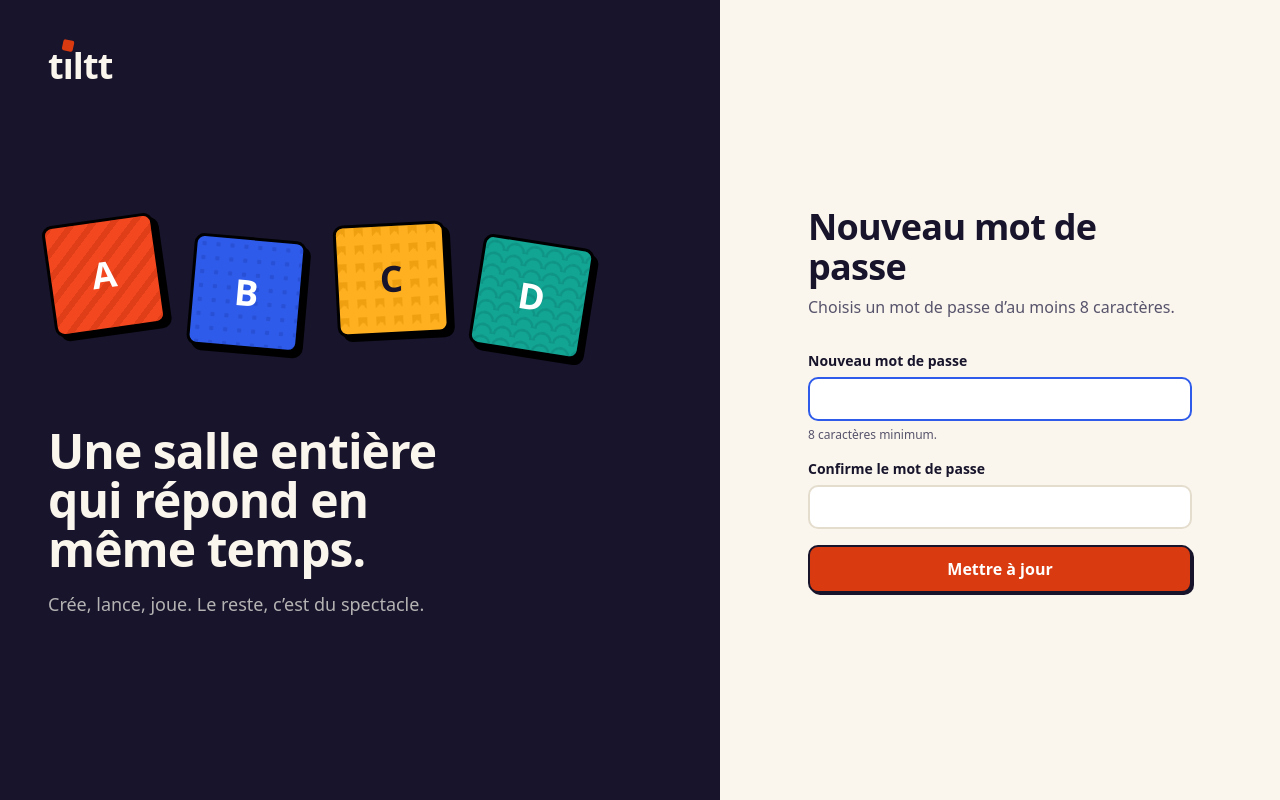
Test case: /auth/reset › keeps the form and explains a rate limit
Type "nouveau-mdp-1" into the password field labelled "Nouveau mot de passe" at point(1000, 399), box [808, 377, 1192, 421]
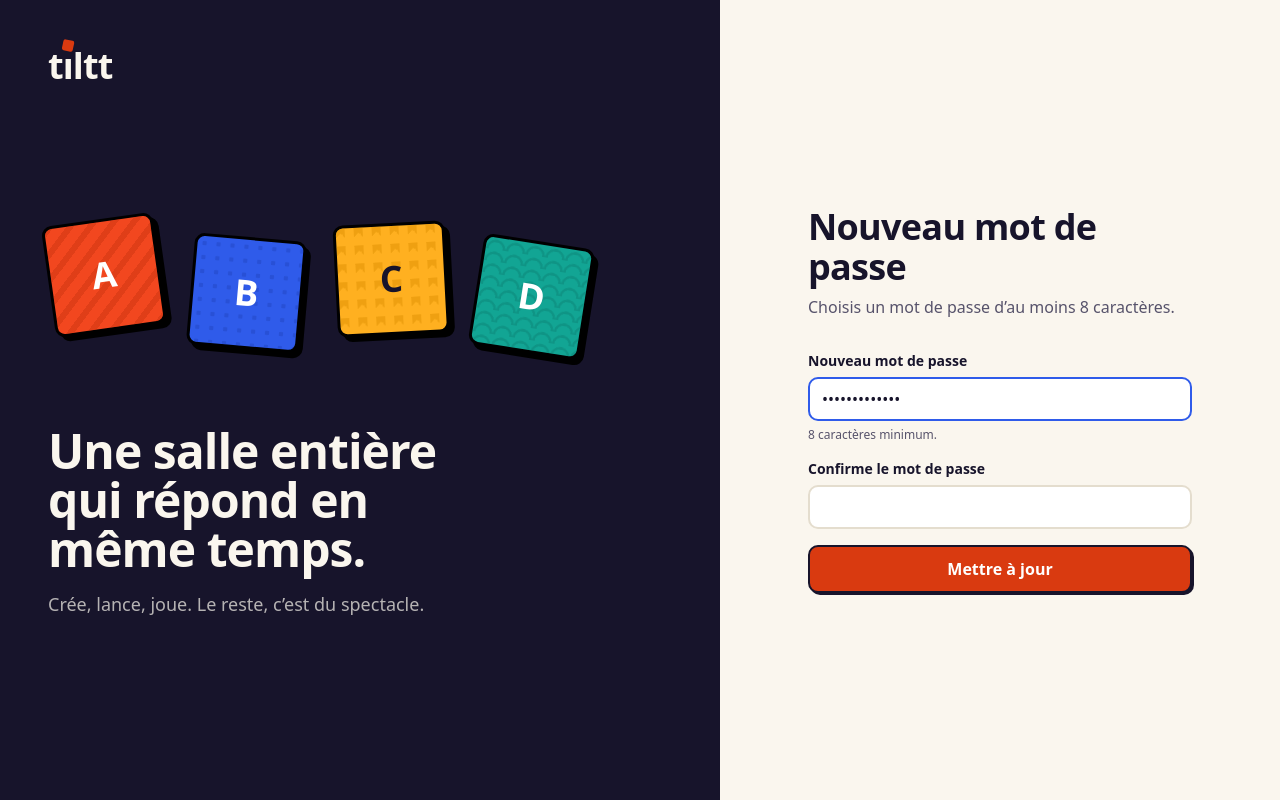
Type "nouveau-mdp-1" into the password field labelled "Confirme le mot de passe" at point(1000, 507), box [808, 485, 1192, 529]
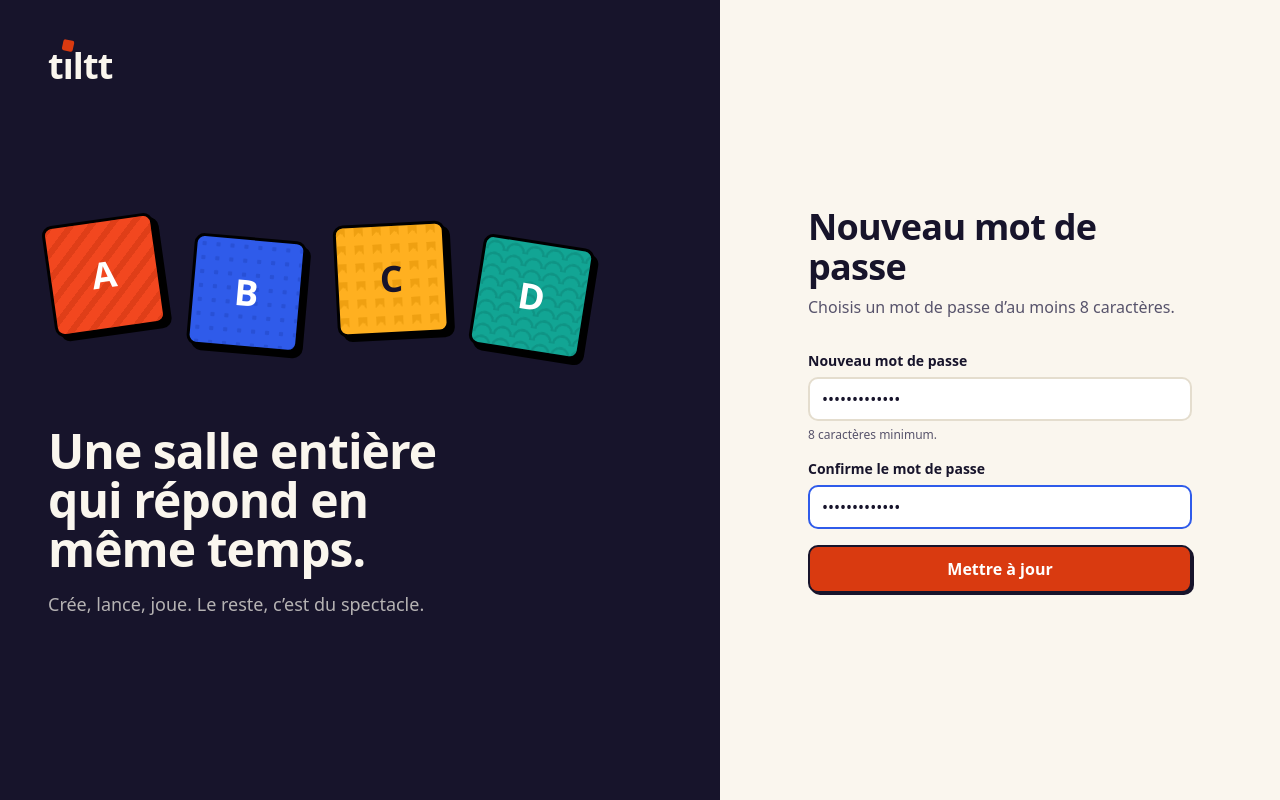
Click the button "Mettre à jour" at point(1000, 569), box [808, 545, 1192, 593]
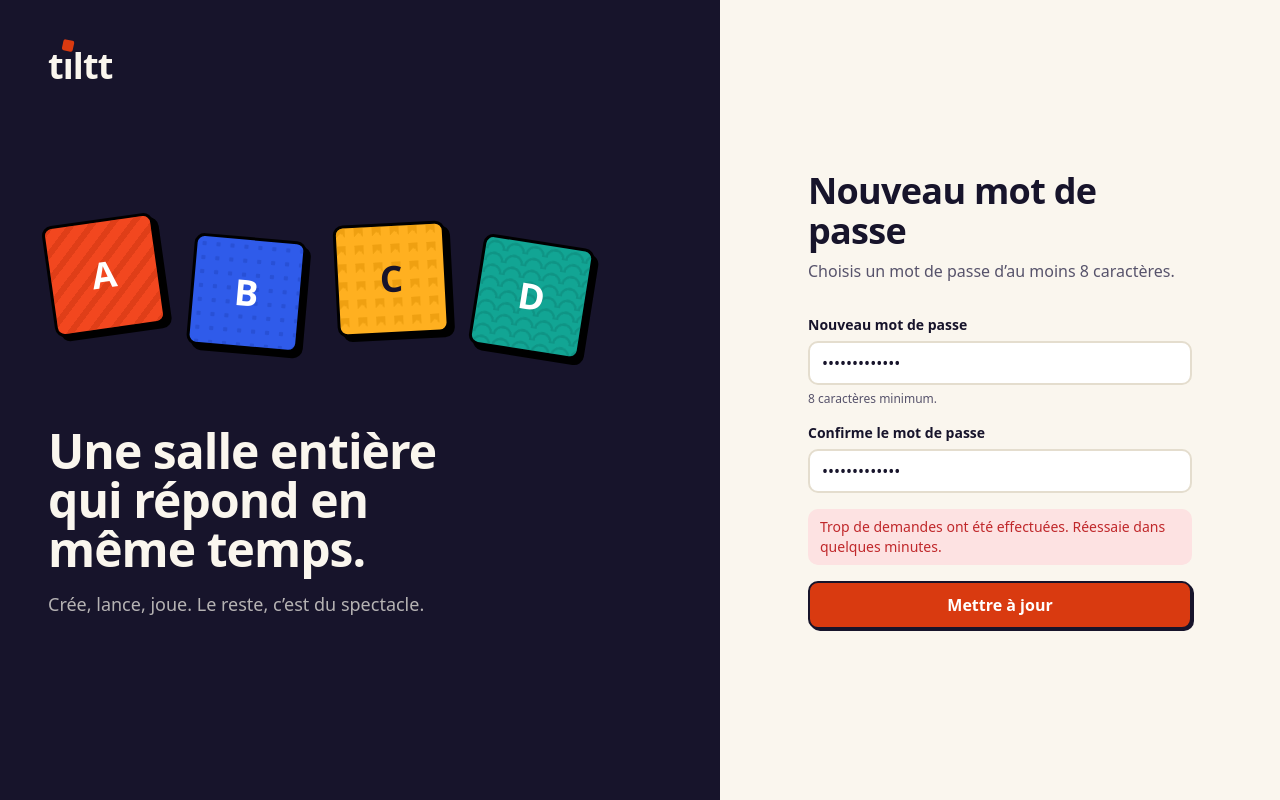
Expected: the text "Trop de demandes ont été effectuées. Réessaie dans quelques minutes." is shown, [808, 509, 1192, 565]
